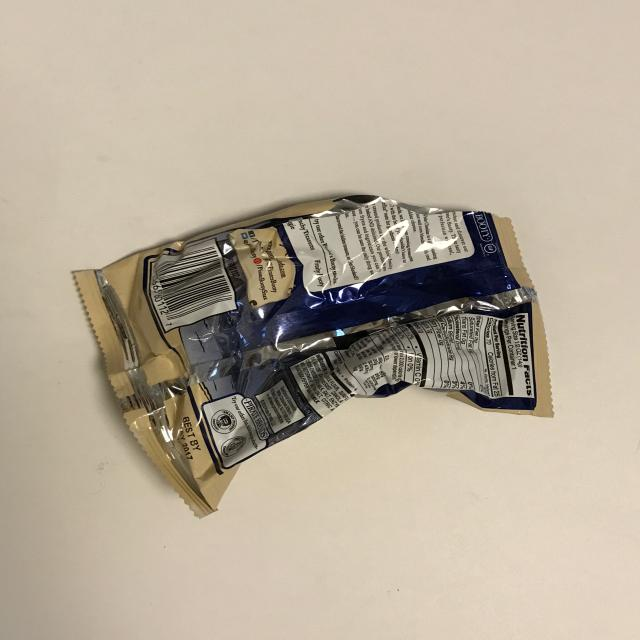trash: (70, 194, 548, 519)
